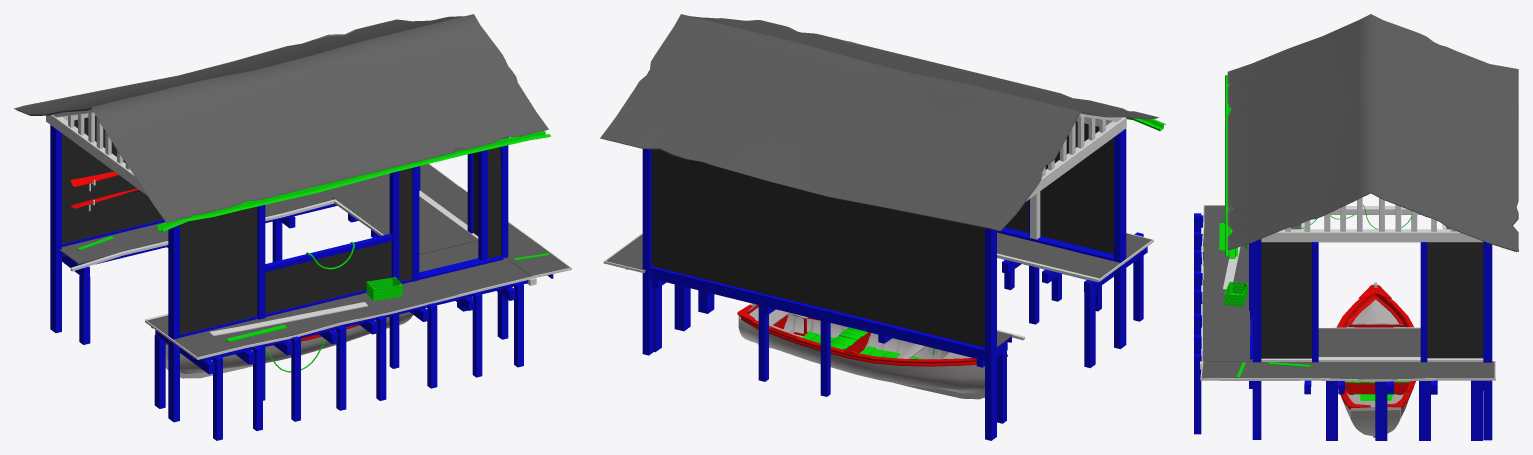
Rendered from boatHouse.fbx.
3 renders of one model, left to right at view 1: azimuth 30°, elevation 25°; view 2: azimuth 150°, elevation 25°; view 3: azimuth 270°, elevation 25°, orthographic. The views are drawn at different scales.
Parts seen in each view (by area): view 1: boatHouse, blueBoat; view 2: boatHouse, blueBoat; view 3: boatHouse, blueBoat.
Boxes of the visible parts, <box> form: boatHouse: <box>14,14,571,440</box>; blueBoat: <box>165,312,412,378</box>; boatHouse: <box>600,14,1165,440</box>; blueBoat: <box>737,303,1007,399</box>; boatHouse: <box>1194,14,1518,440</box>; blueBoat: <box>1336,282,1415,437</box>.
Bounding box in the file's own units: 3.42 × 2.47 × 2.54.
